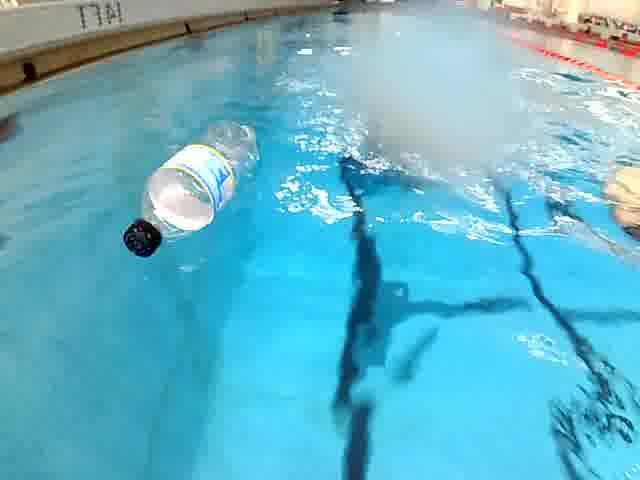Bottle: (120, 117, 262, 264)
